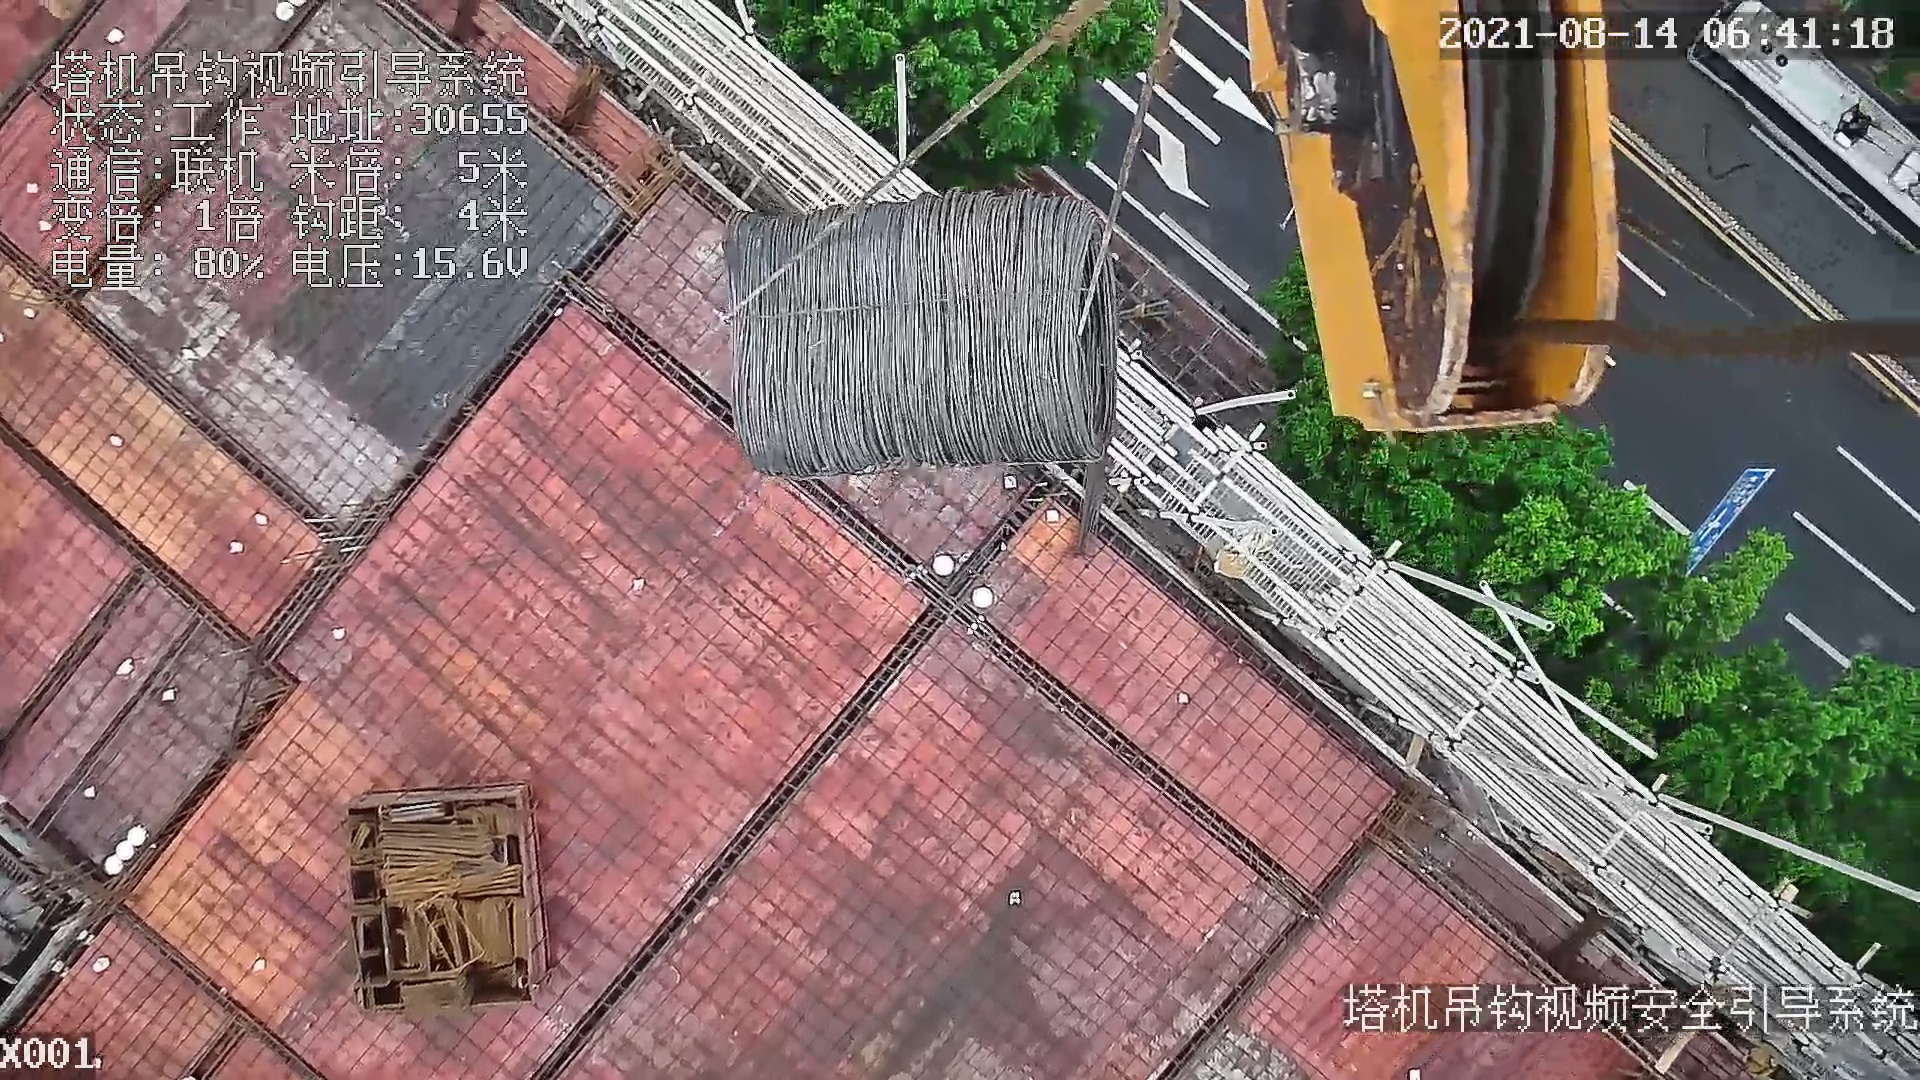hook: (1154, 1, 1654, 439)
